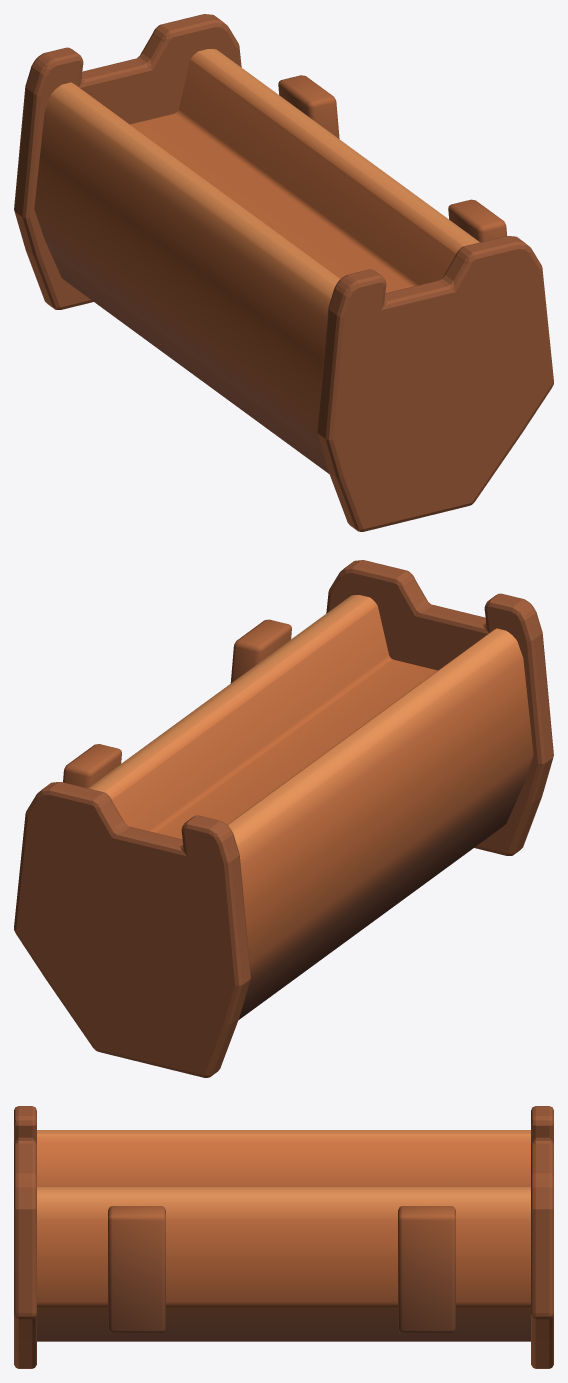
Rendered from Yalak.fbx.
3 renders of one model, top to bottom at view 1: azimuth 30°, elevation 25°; view 2: azimuth 150°, elevation 25°; view 3: azimuth 270°, elevation 25°, orthographic. The views are drawn at different scales.
Visible parts, largest first — view 1: Cylinder.066; view 2: Cylinder.066; view 3: Cylinder.066.
Part boxes in pixels (x1,y1,x2,y2): Cylinder.066: (14,14,553,531); Cylinder.066: (14,560,553,1077); Cylinder.066: (14,1106,553,1368).
Bounding box in the file's own units: 0.4563 × 0.4478 × 1.02.
